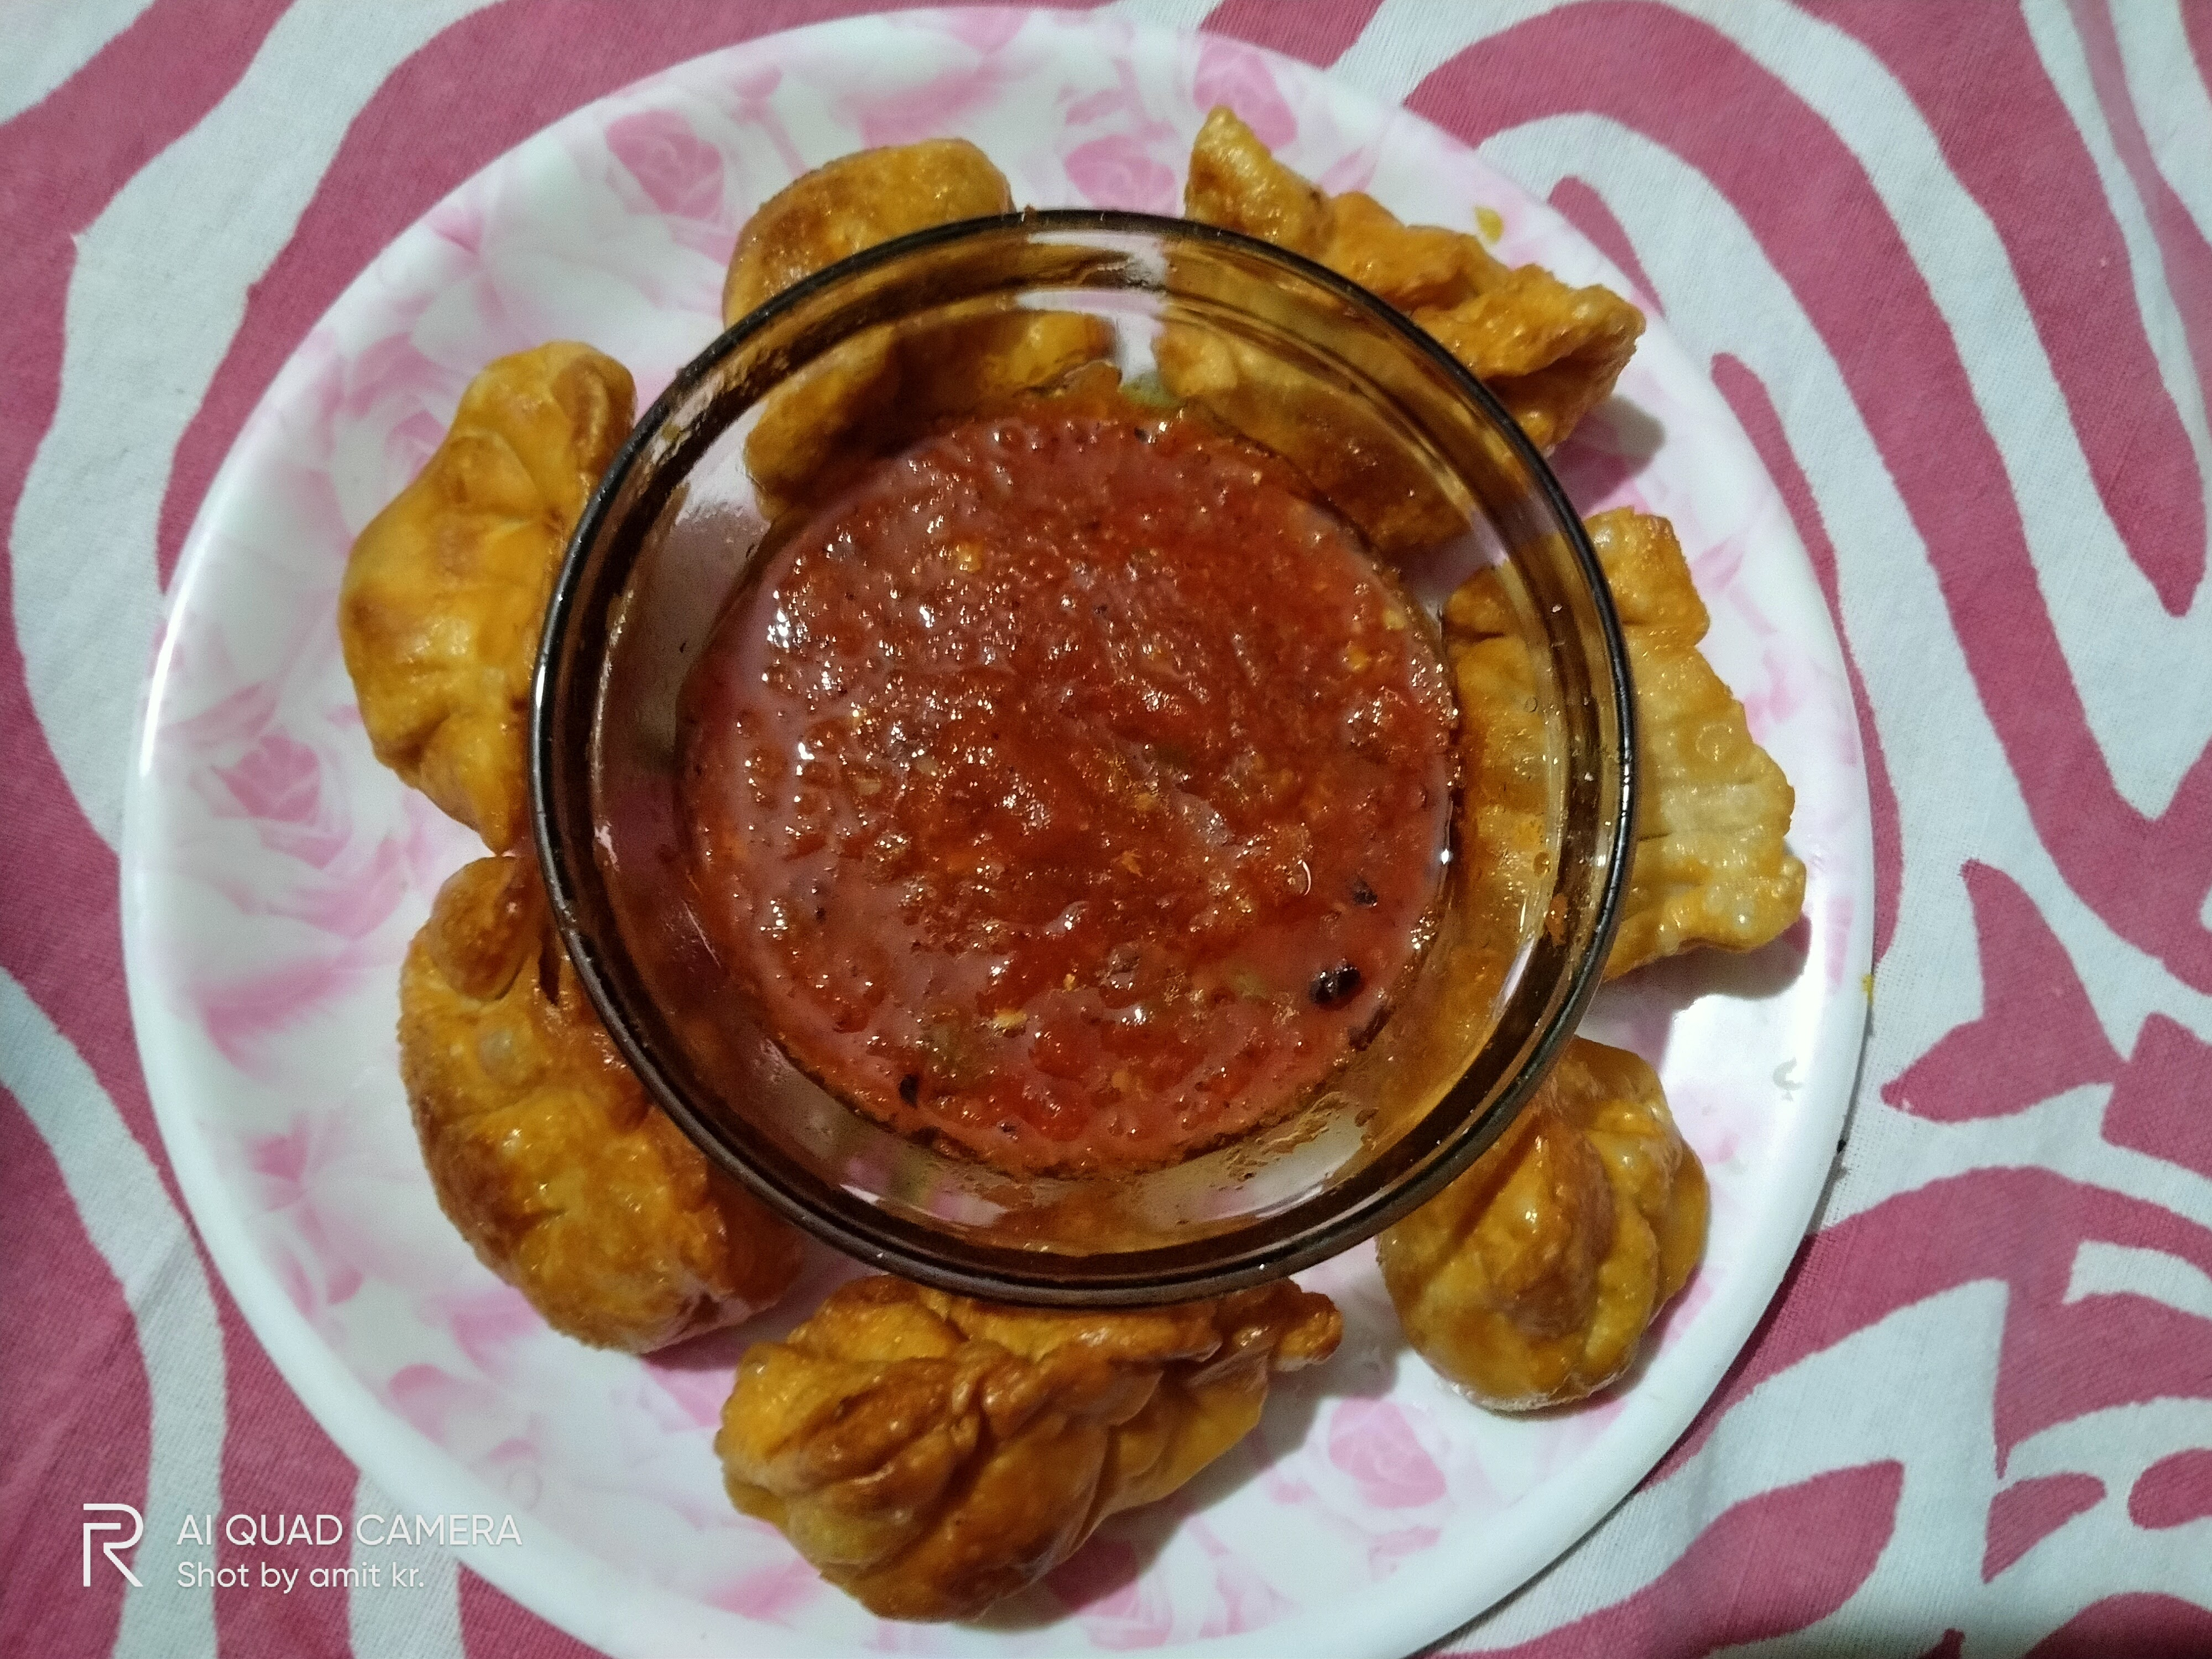food: (334, 98, 1810, 1626)
